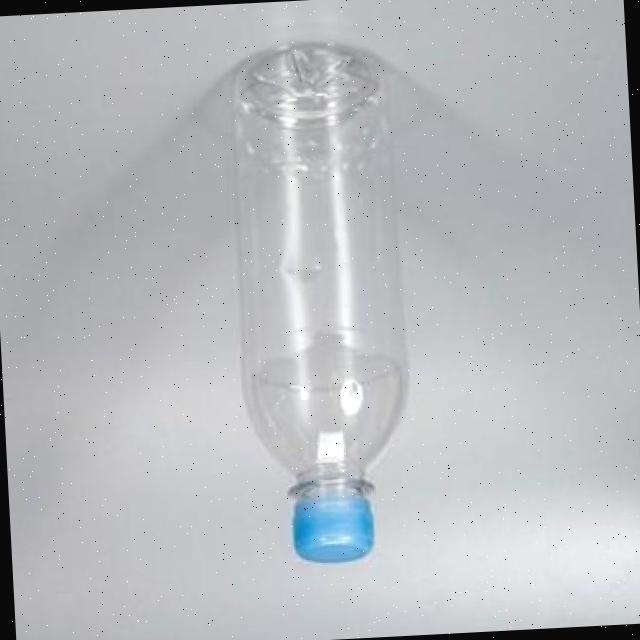bottle: (207, 21, 435, 592)
cap: (289, 486, 376, 568)
